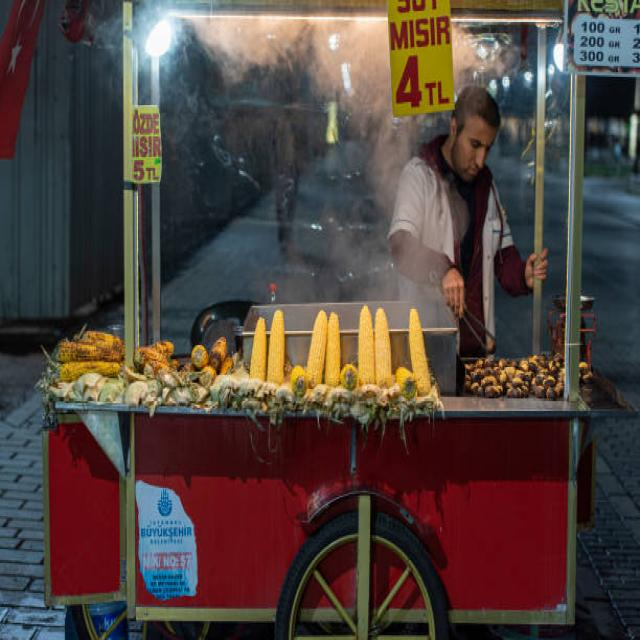Emperan: (27, 0, 630, 637)
